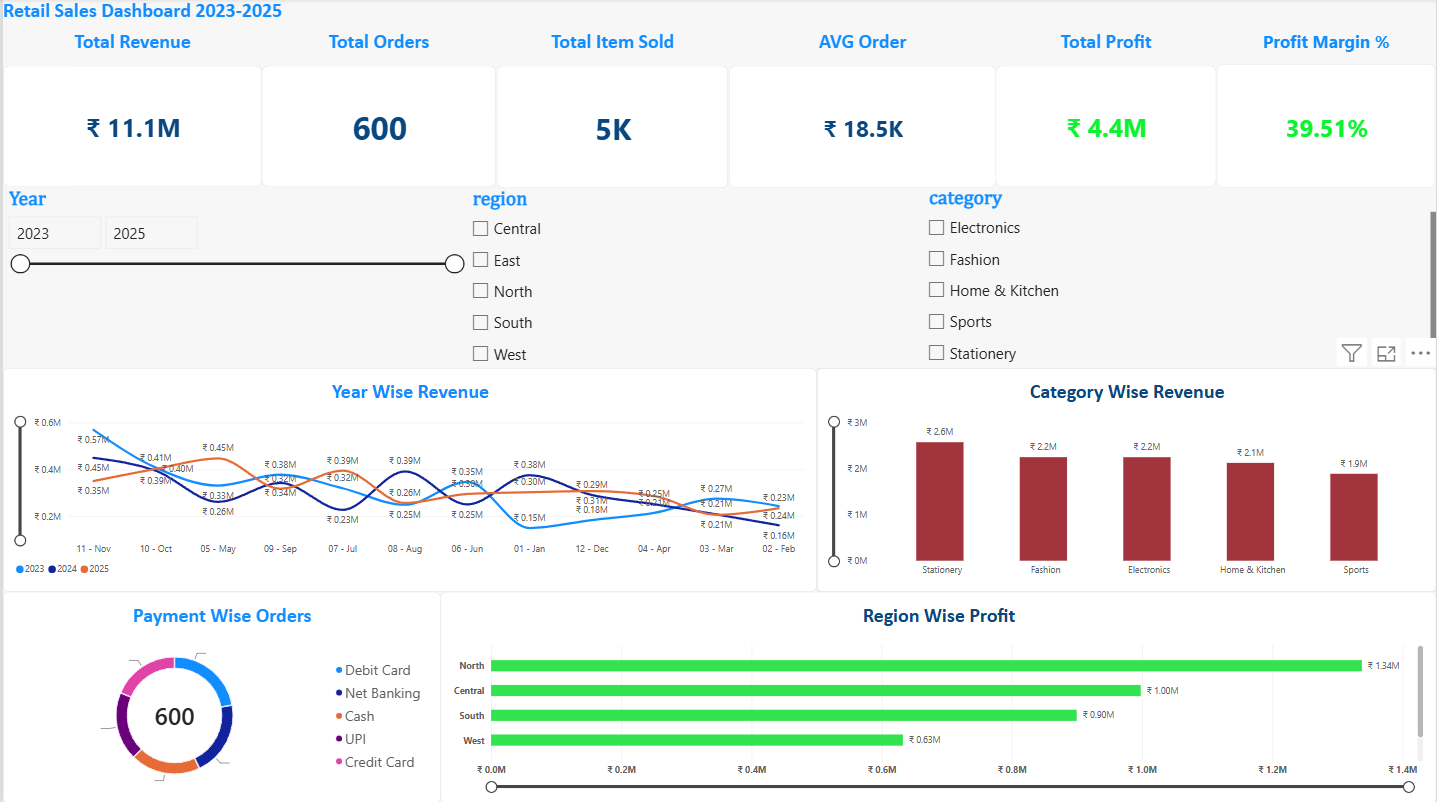

What the dashboard file says about the page in this screenshot:
{"tool":"powerbi","page":{"name":"Overview","canvas":[1920,1080],"ordinal":0},"visuals":[{"type":"textbox","box":[0,0,390.7,41.9],"z":7},{"type":"slicer","fields":{"Values":["DateTable.Year"]},"box":[0,254.9,621.5,240.9],"z":8},{"type":"slicer","fields":{"Values":["Customers.region"]},"box":[621.5,254.9,611,242.7],"z":9},{"type":"slicer","fields":{"Values":["Products.category"]},"box":[1232.5,253.1,687.8,240.9],"z":10},{"type":"cardVisual","title":"Total Revenue","fields":{"Data":["Order_Items.Total Revenue"]},"box":[0,41.9,347.4,211.2],"z":11},{"type":"cardVisual","title":"Total Orders ","fields":{"Data":["Order_Items.Total Orders"]},"box":[347.4,41.9,314.2,211.2],"z":12},{"type":"cardVisual","title":"Total Item Sold","fields":{"Data":["Order_Items.Total Items Sold"]},"box":[661.6,41.9,310.7,213],"z":13},{"type":"cardVisual","title":"AVG Order  ","fields":{"Data":["Order_Items.Average Order value"]},"box":[972.4,41.9,357.9,213],"z":14},{"type":"cardVisual","title":"Total Profit","fields":{"Data":["Order_Items.Total Profit"]},"box":[1330.3,41.9,296.8,211.2],"z":15},{"type":"cardVisual","title":"Profit Margin % ","fields":{"Data":["Order_Items.Profit Margin %"]},"box":[1627.1,41.9,293.3,213],"z":16},{"type":"lineChart","title":"Year Wise Revenue","fields":{"Category":["DateTable.Month Label"],"Series":["DateTable.Year"],"Y":["Order_Items.Total Revenue"]},"box":[0,495.4,1090.1,300],"z":17},{"type":"clusteredColumnChart","title":"Category Wise Revenue","fields":{"Category":["Products.category"],"Y":["Order_Items.Total Revenue"]},"box":[1090.1,495.4,830.2,300],"z":18},{"type":"donutChart","title":"Payment Wise Orders","fields":{"Category":["Orders.payment_method"],"Y":["Order_Items.Total Orders"]},"box":[0,795.4,586,284.3],"z":19},{"type":"clusteredBarChart","title":"Region Wise Profit","fields":{"Category":["Customers.region"],"Y":["Order_Items.Total Profit"]},"box":[586,795.4,1334.3,284.3],"z":20},{"type":"pageNavigator","box":[1118.9,0,800,50],"z":21}]}

Visuals, with their boxes in screenshot pixels (x1, y1, x2, y2), scaled from the page's 1920x1080 canvas onto the 1437x802 screenshot:
textbox: locate(0, 0, 292, 31)
slicer - DateTable.Year: locate(0, 189, 465, 368)
slicer - Customers.region: locate(465, 189, 922, 370)
slicer - Products.category: locate(922, 188, 1436, 367)
"Total Revenue" cardVisual: locate(0, 31, 260, 188)
"Total Orders " cardVisual: locate(260, 31, 495, 188)
"Total Item Sold" cardVisual: locate(495, 31, 728, 189)
"AVG Order  " cardVisual: locate(728, 31, 996, 189)
"Total Profit" cardVisual: locate(996, 31, 1218, 188)
"Profit Margin % " cardVisual: locate(1218, 31, 1436, 189)
"Year Wise Revenue" lineChart: locate(0, 368, 816, 591)
"Category Wise Revenue" clusteredColumnChart: locate(816, 368, 1436, 591)
"Payment Wise Orders" donutChart: locate(0, 591, 439, 801)
"Region Wise Profit" clusteredBarChart: locate(439, 591, 1436, 801)
pageNavigator: locate(837, 0, 1436, 37)
